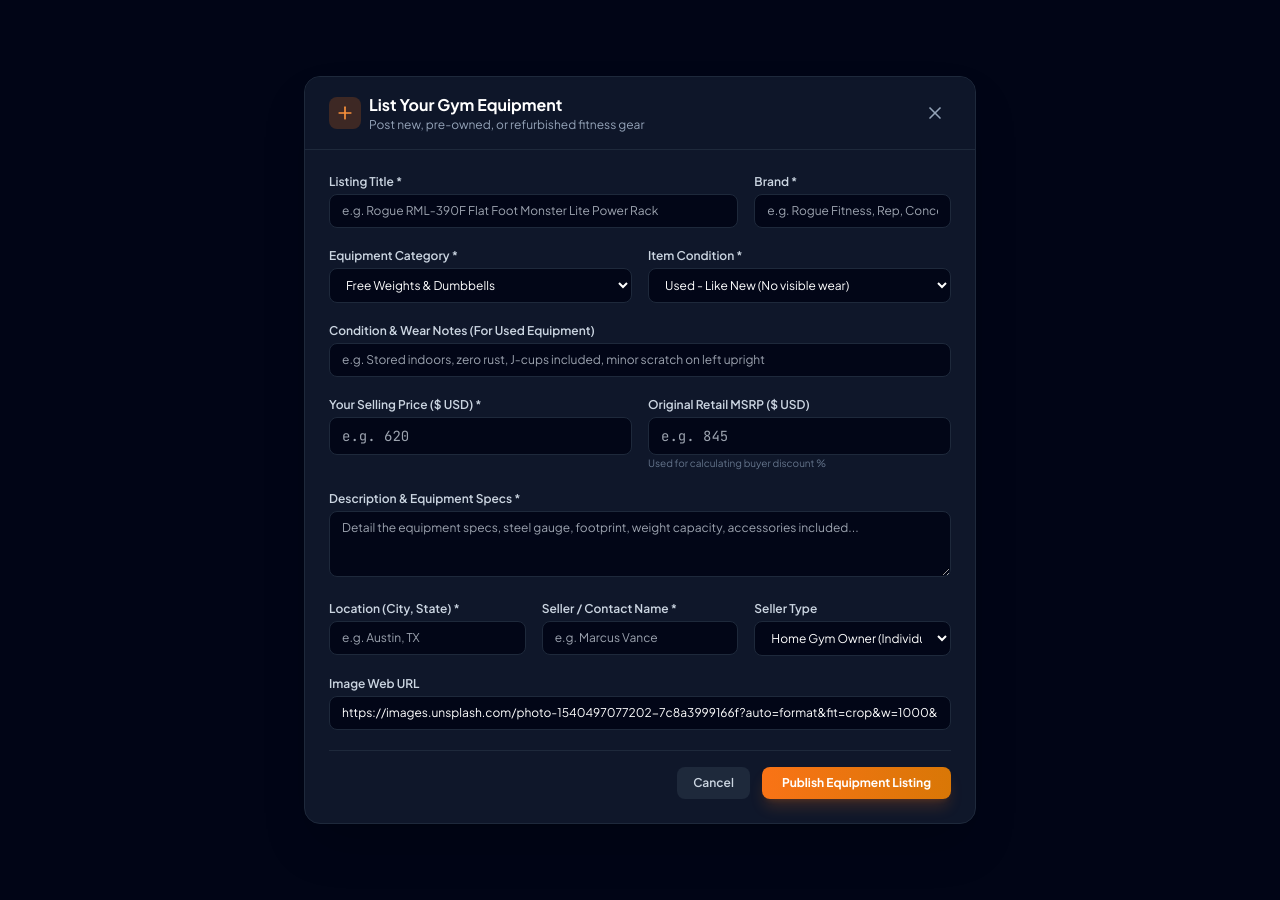
Test case: Journey Test: Sell Equipment Listing Submission Flow › should display error messages if server rejects payload
The width and height of the screenshot is (1280, 900).
# Provide short title that triggers the server error
Type "AB" into the field with placeholder "e.g. Rogue RML-390F Flat Foot Monster Lite Power Rack" at (534, 211), box x1=329 y1=194 x2=738 y2=228
Type "Brand" into the field with placeholder "e.g. Rogue Fitness, Rep, Concept2" at (853, 211), box x1=754 y1=194 x2=951 y2=228
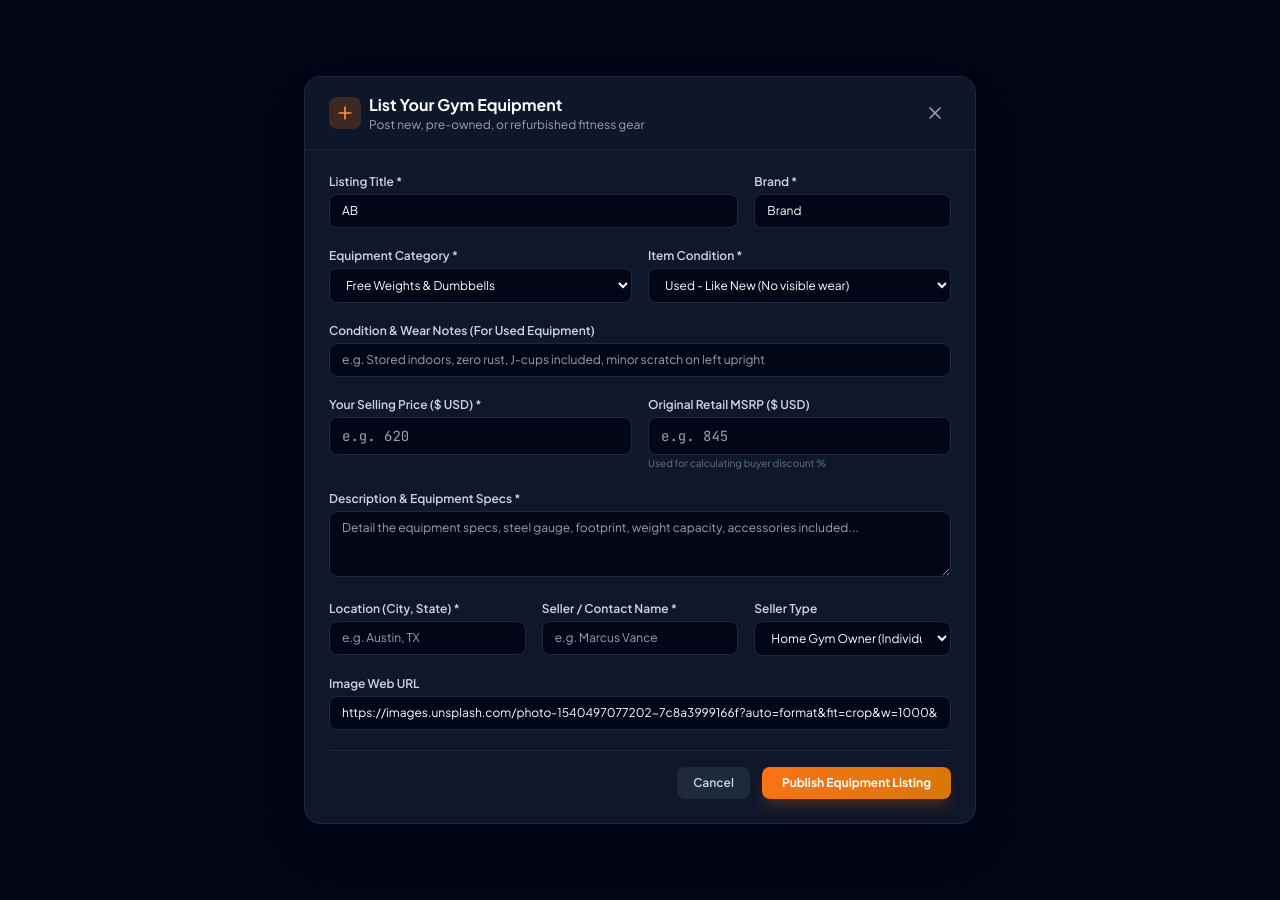
Type "500" into the number field with placeholder "e.g. 620" at (480, 436), box x1=329 y1=417 x2=632 y2=455
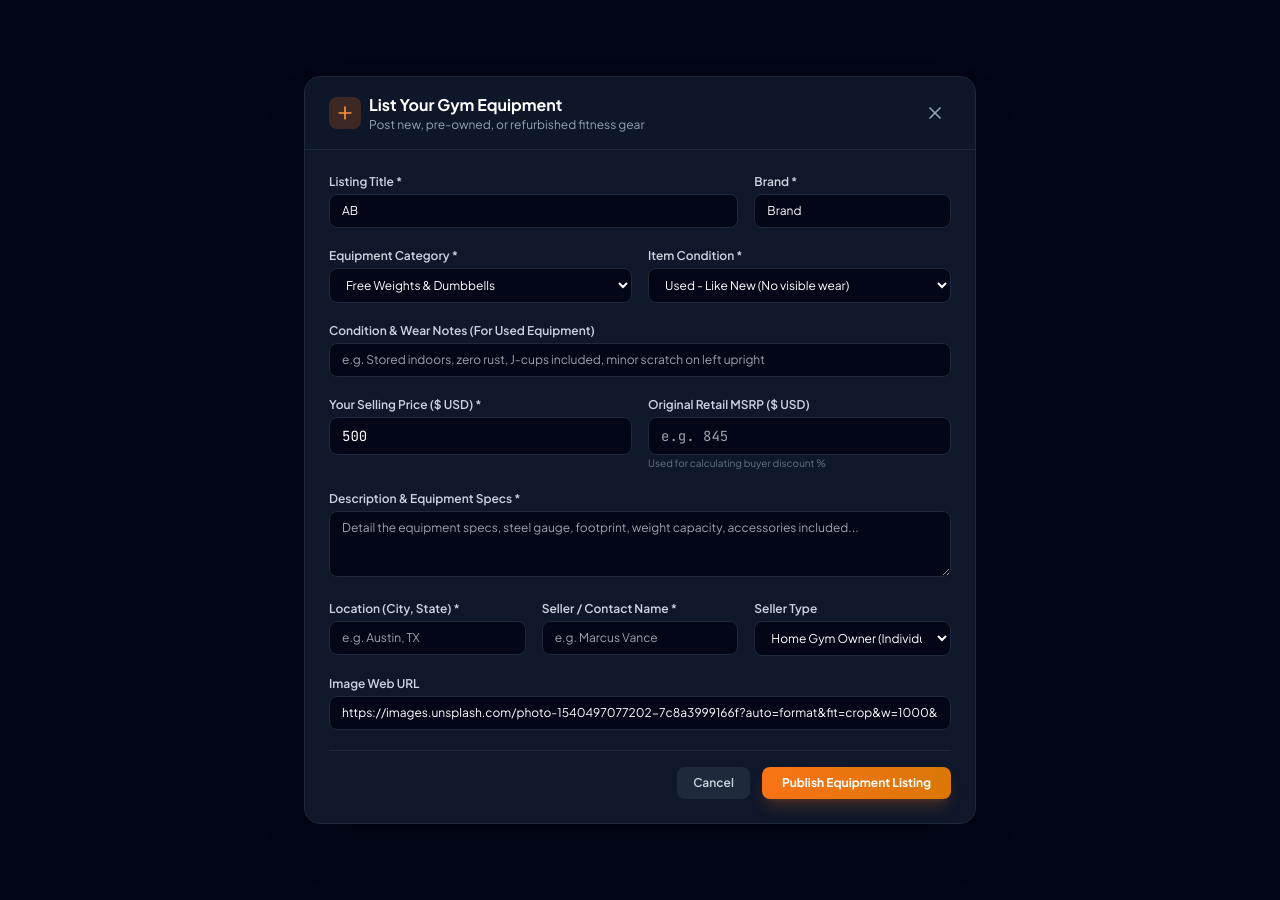
Replace the text in the text box with placeholder "Detail the equipment specs" with "Some description about the gear." at (640, 544), box x1=329 y1=511 x2=951 y2=577
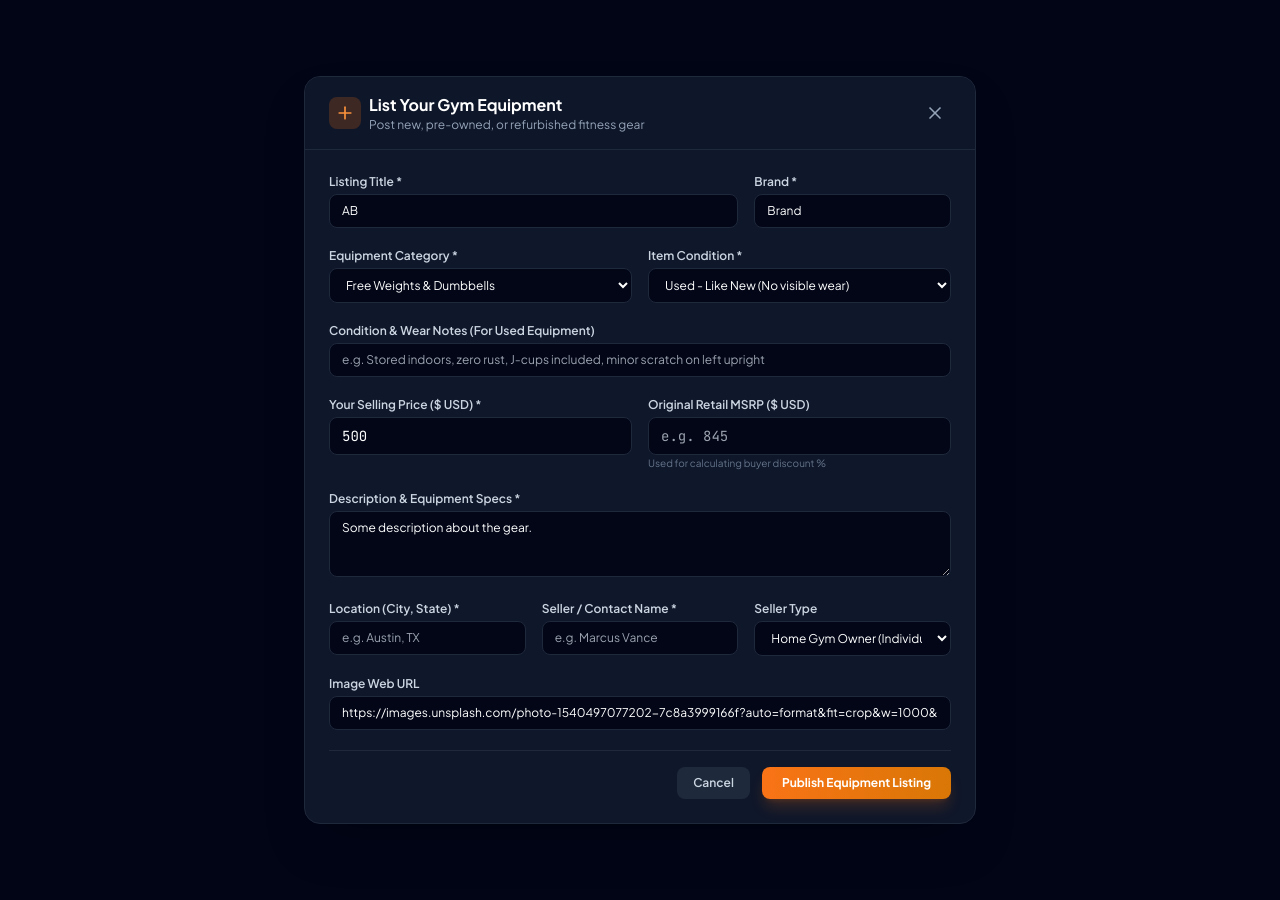
Type "Austin, TX" into the field with placeholder "e.g. Austin, TX" at (427, 638), box x1=329 y1=621 x2=526 y2=655
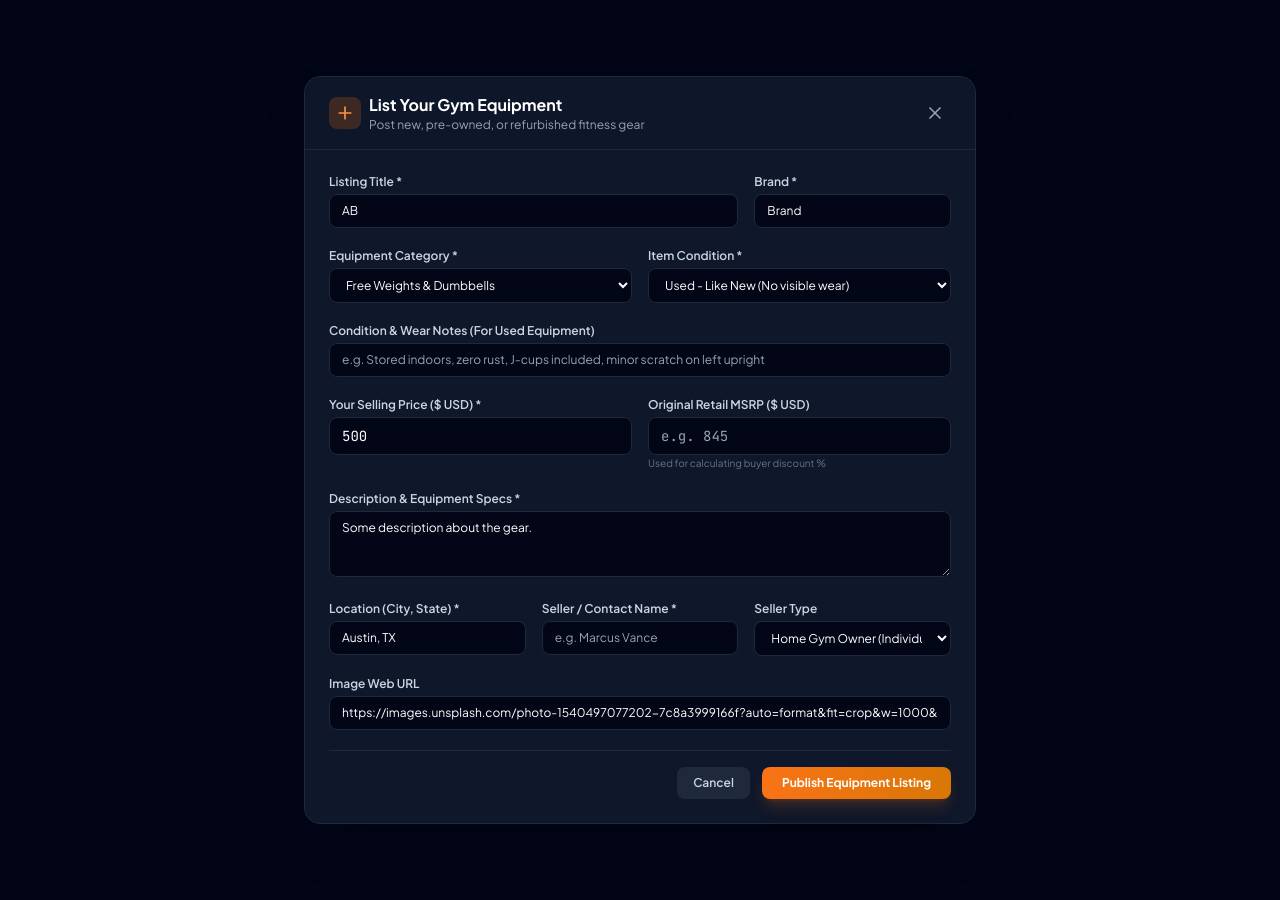
Type "Marcus" into the field with placeholder "e.g. Marcus Vance" at (640, 638), box x1=542 y1=621 x2=738 y2=655
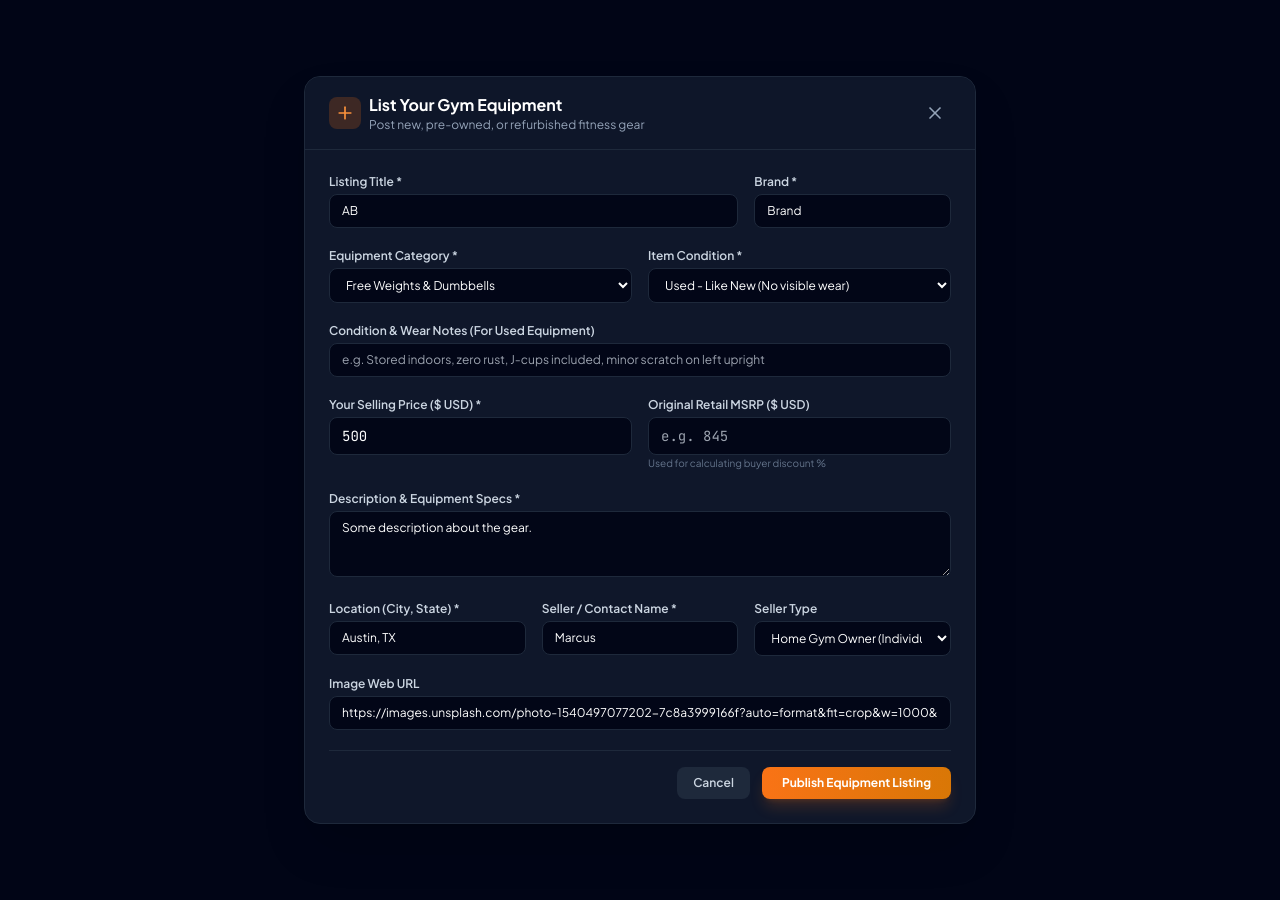
Click the button "Publish Equipment Listing" at (856, 783), box x1=762 y1=767 x2=951 y2=799
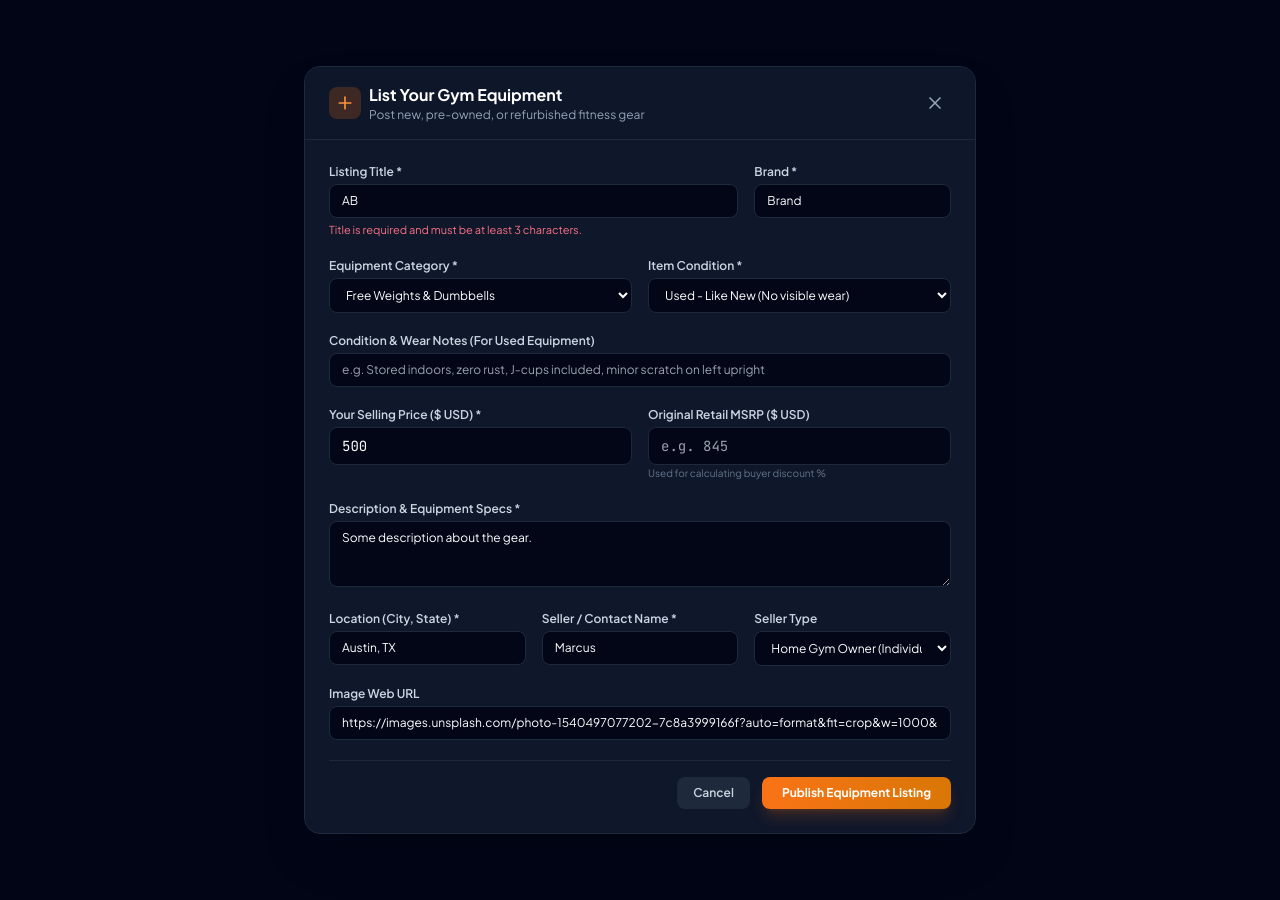
Check: the text "Title is required and must be at least 3 characters." is shown, box x1=329 y1=223 x2=582 y2=236
